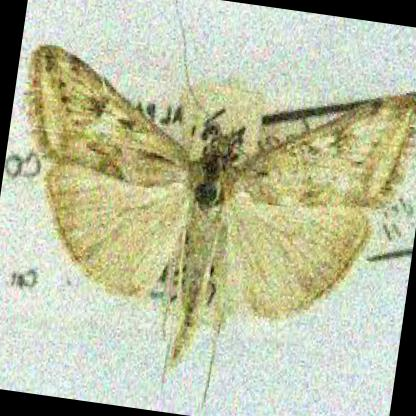Leaf Webber: (20, 36, 416, 365)
